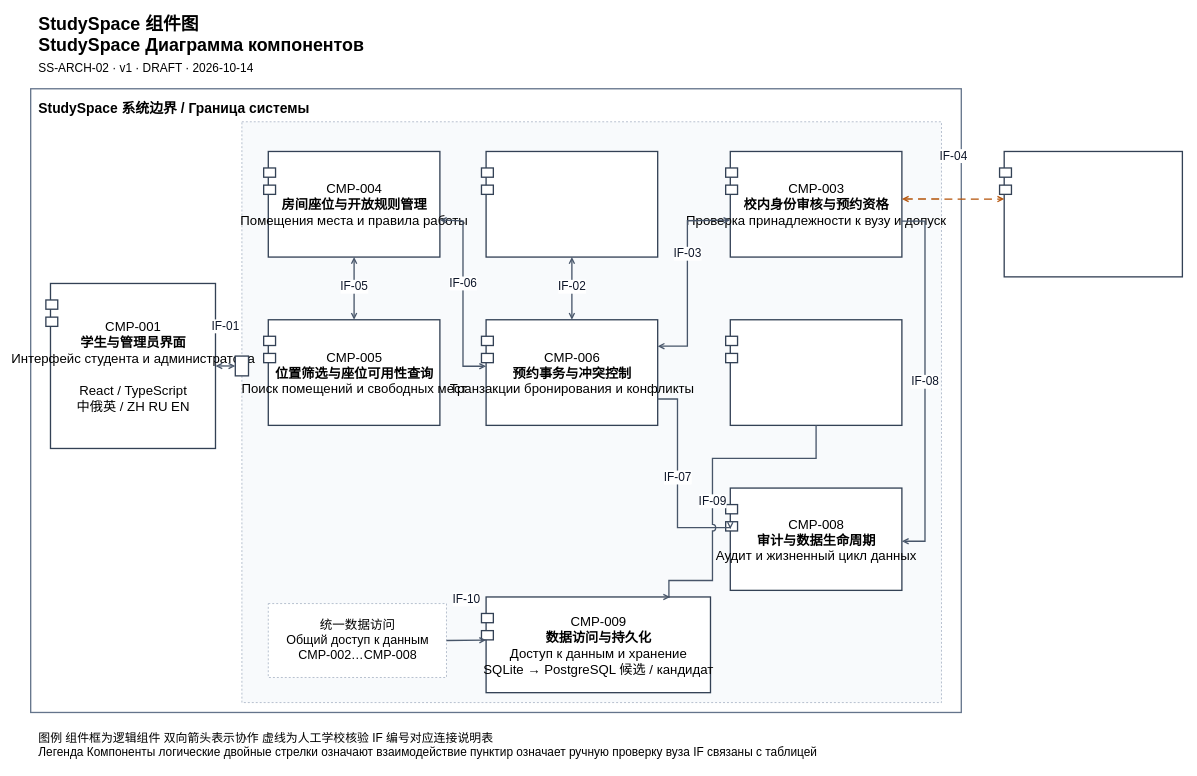
Some shapes in this 1197 by 776 pixel diagram are drawn without their labels. The shapes that lost their labels are listed below. From the top down, each one's box as (x1, y1, x2, y2) in pixels, then its label:
(485, 150, 658, 257): CMP-002 账号认证与权限控制 Аутентификация и права доступа
(1003, 150, 1183, 277): CMP-010 可信学校核验来源 Доверенный источник вуза 人工核验 / Ручная проверка OPEN-003
(729, 319, 902, 426): CMP-007 预约记录与基础统计 Записи бронирований и показатели
(241, 121, 941, 703): FastAPI 模块化单体 / Модульный монолит FastAPI
